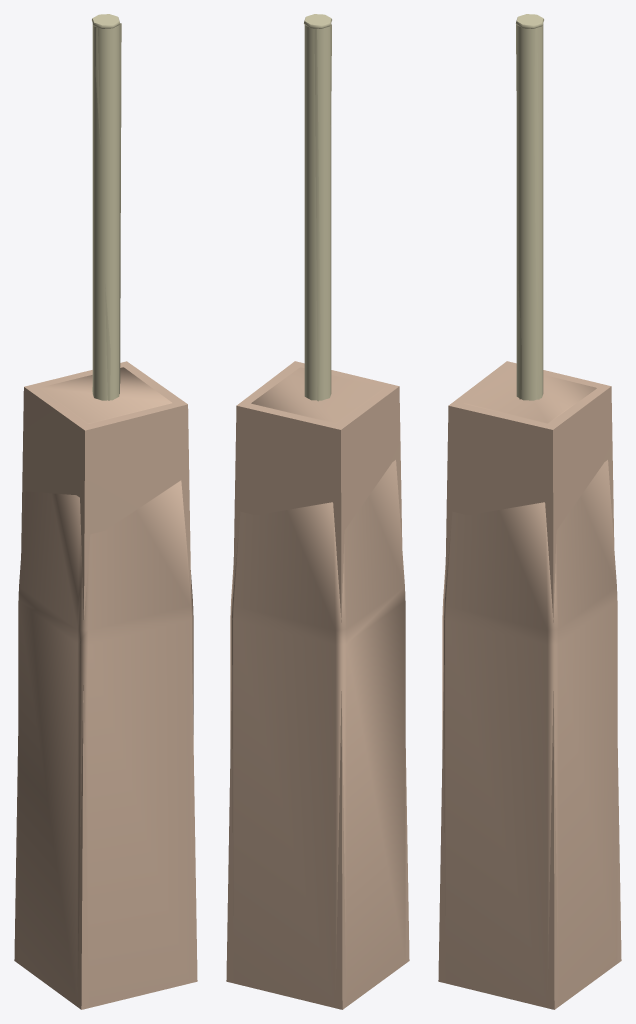
The model's file is railing_post_metal.dae.
3 views of the same model, side by side, from view 1: azimuth 30°, elevation 25°; view 2: azimuth 150°, elevation 25°; view 3: azimuth 330°, elevation 25° (orthographic).
Visible parts, largest first — view 1: railing_post_metal_a200, railing_post_metal_a050; view 2: railing_post_metal_a200, railing_post_metal_a050; view 3: railing_post_metal_a200, railing_post_metal_a050.
Part boxes in pixels (x1=…): railing_post_metal_a200: x1=18, y1=14, x2=193, y2=1008; railing_post_metal_a050: x1=14, y1=23, x2=197, y2=1009; railing_post_metal_a200: x1=230, y1=14, x2=405, y2=1008; railing_post_metal_a050: x1=226, y1=24, x2=409, y2=1009; railing_post_metal_a200: x1=442, y1=14, x2=617, y2=1008; railing_post_metal_a050: x1=438, y1=24, x2=621, y2=1009.
Size of the model in its own units: 0.5 by 0.5 by 3.92.
